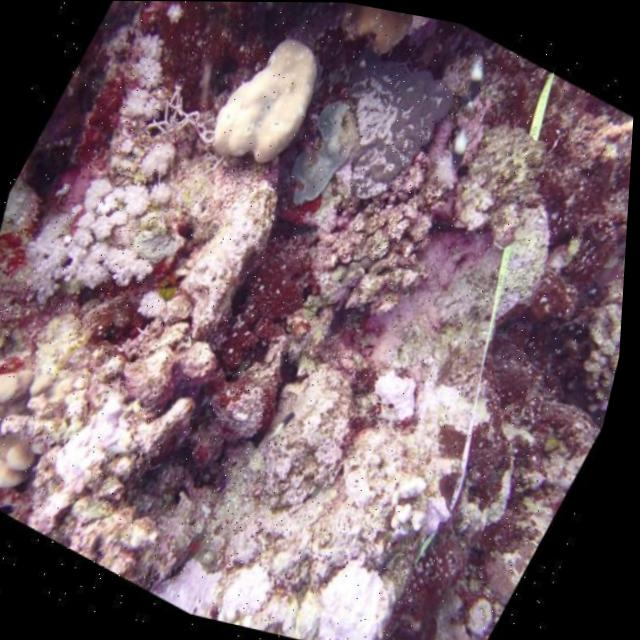Bleached Coral: (0, 89, 222, 354), (9, 365, 171, 541), (152, 488, 333, 640), (284, 521, 440, 640)
